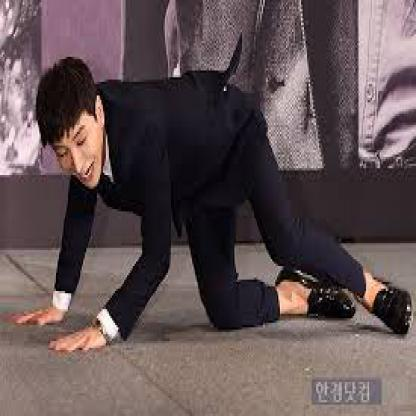Fall_Down: (5, 57, 413, 351)
